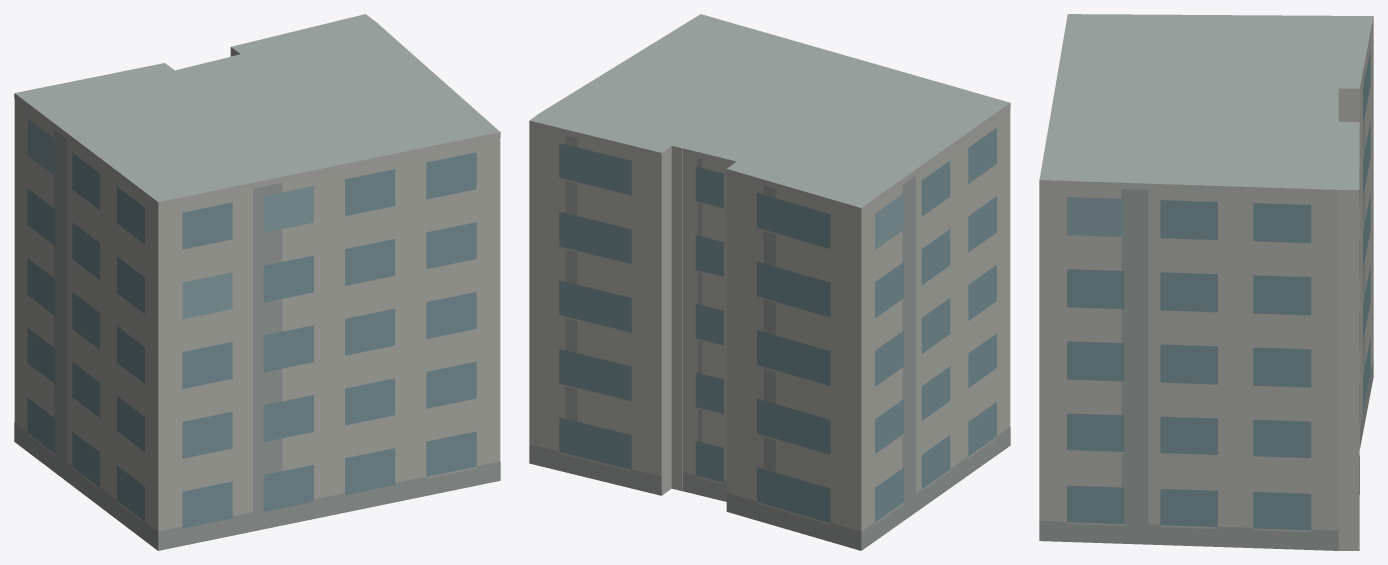
File: survey-upis-32882760.glb
The picture shows the model from 3 angles, left to right: view 1: azimuth 30°, elevation 25°; view 2: azimuth 150°, elevation 25°; view 3: azimuth 270°, elevation 25°; orthographic projection. The views are drawn at different scales.
Parts seen in each view (by area): view 1: survey-upis-32882760.tmp; view 2: survey-upis-32882760.tmp; view 3: survey-upis-32882760.tmp.
Boxes of the visible parts, bbox=[...] form: survey-upis-32882760.tmp: bbox=[14, 14, 500, 550]; survey-upis-32882760.tmp: bbox=[529, 14, 1010, 550]; survey-upis-32882760.tmp: bbox=[1039, 14, 1373, 550].
Bounding box in the file's own units: 14.85 × 14.2 × 11.92.
